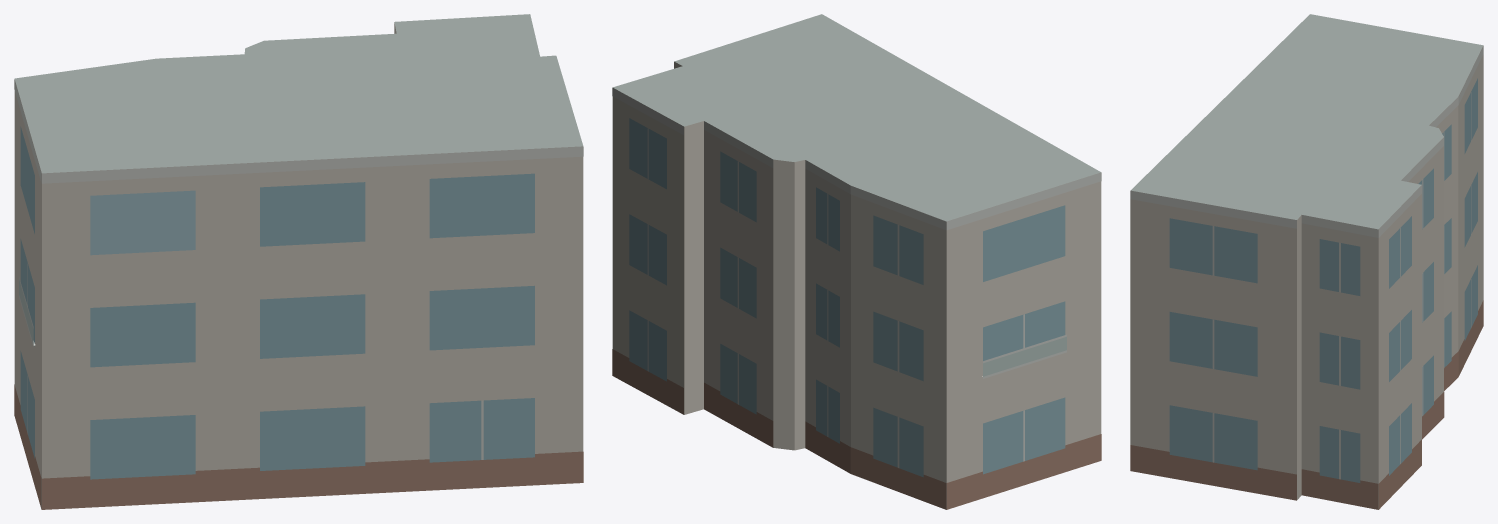
The model's file is survey-upis-32632542.glb.
3 renders of one model, left to right at view 1: azimuth 30°, elevation 25°; view 2: azimuth 150°, elevation 25°; view 3: azimuth 270°, elevation 25°, orthographic. The views are drawn at different scales.
Parts seen in each view (by area): view 1: survey-upis-32632542.tmp; view 2: survey-upis-32632542.tmp; view 3: survey-upis-32632542.tmp.
Boxes of the visible parts, bbox=[...] form: survey-upis-32632542.tmp: bbox=[14, 14, 583, 509]; survey-upis-32632542.tmp: bbox=[612, 14, 1101, 509]; survey-upis-32632542.tmp: bbox=[1130, 14, 1483, 509].
Bounding box in the file's own units: 13.1 × 7.95 × 9.08.
